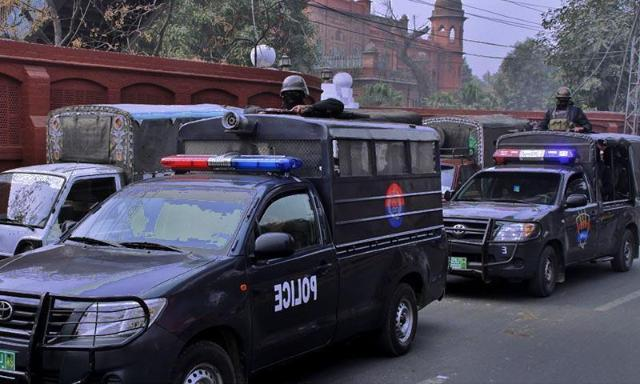police_car: (4, 114, 446, 378), (443, 132, 640, 297)
